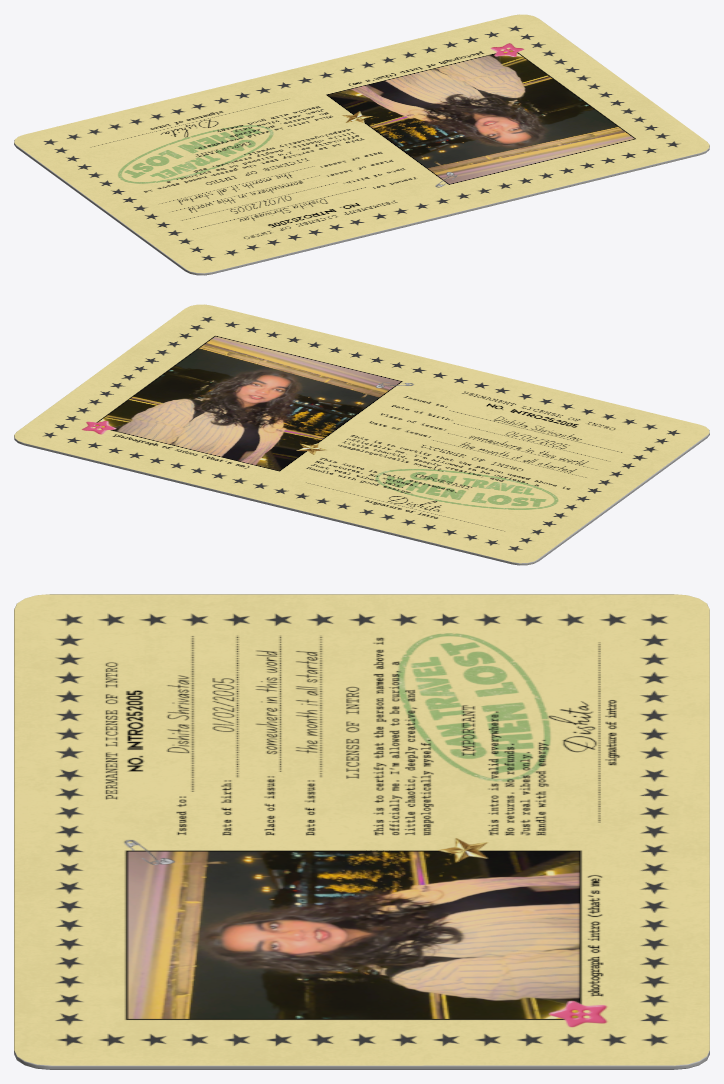
The model's file is card.glb.
3 views of the same model, one above another, from view 1: azimuth 30°, elevation 25°; view 2: azimuth 150°, elevation 25°; view 3: azimuth 270°, elevation 25° (orthographic). The views are drawn at different scales.
Parts seen in each view (by area): view 1: polySurface4; view 2: polySurface4; view 3: polySurface4.
Part boxes in pixels (x1,y1,x2,y2): polySurface4: (14,14,709,275); polySurface4: (14,304,709,565); polySurface4: (14,594,709,1069).
Bounding box in the file's own units: 0.057 × 0.000252 × 0.0355.
Materials: 1 (1 with a texture image).
